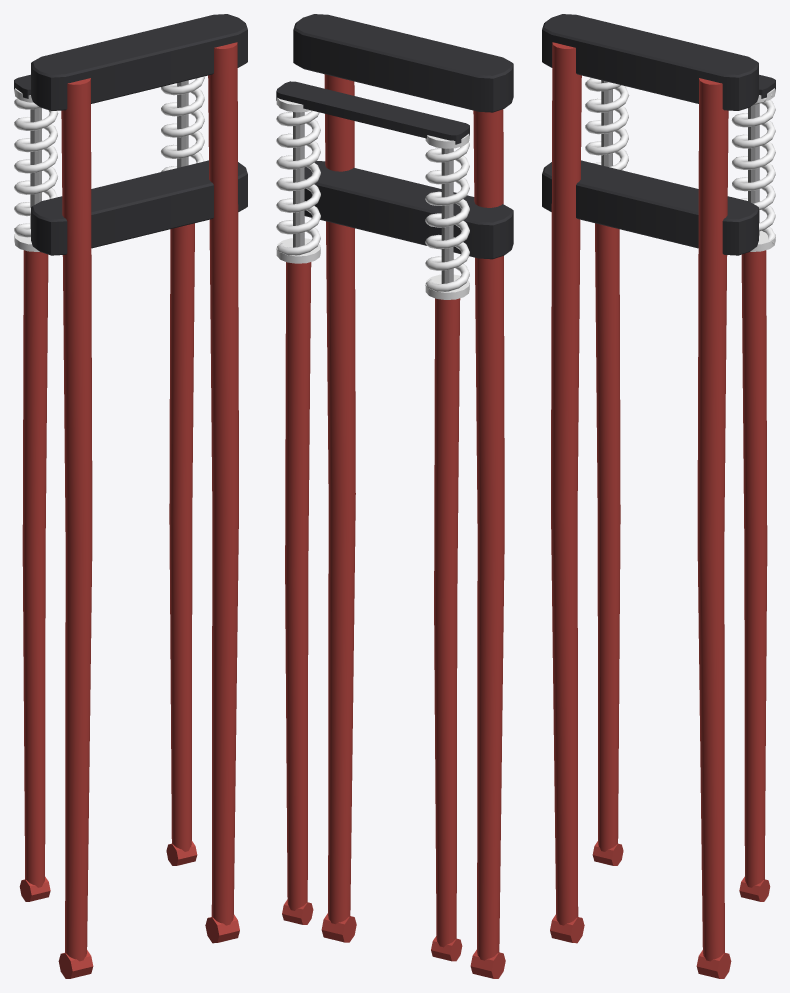
The model's file is springer_long_upper.glb.
3 views of the same model, side by side, from view 1: azimuth 30°, elevation 25°; view 2: azimuth 150°, elevation 25°; view 3: azimuth 330°, elevation 25° (orthographic).
Parts seen in each view (by area): view 1: lod0; view 2: lod0; view 3: lod0.
Part boxes in pixels (x1,y1,x2,y2): lod0: (14,14,247,978); lod0: (276,14,513,978); lod0: (542,14,775,978).
Size of what is drawn, in the model's own units: 0.24 by 1 by 0.1214.
